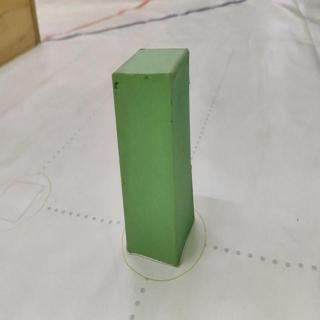greenbox: (109, 45, 198, 269)
